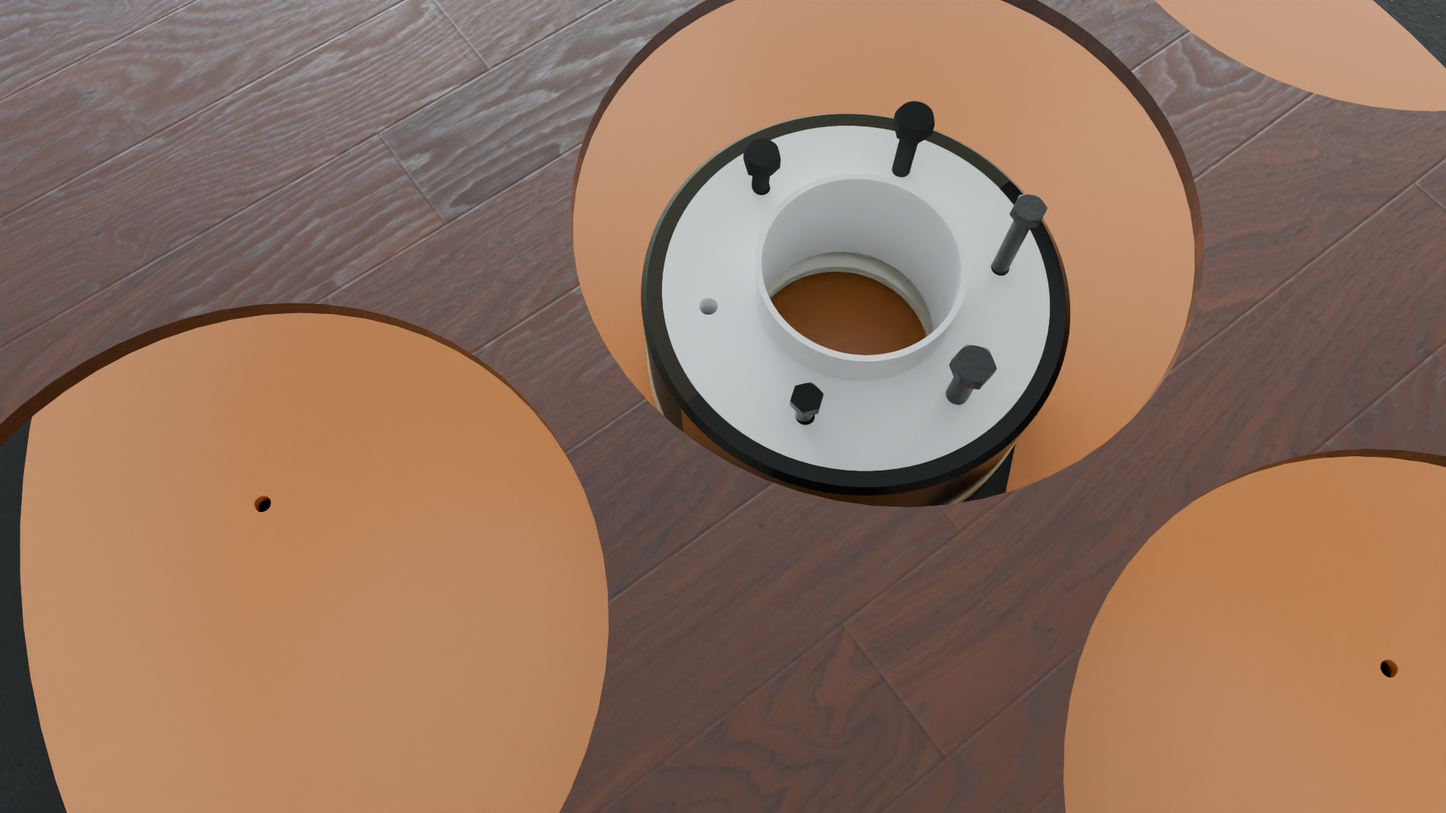bolt: (952, 344, 997, 384), (895, 101, 935, 136), (744, 139, 781, 170), (790, 382, 824, 413), (1013, 194, 1048, 221)
